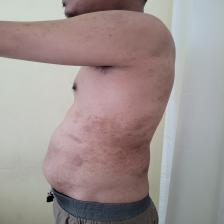DA: (74, 115, 148, 188)
